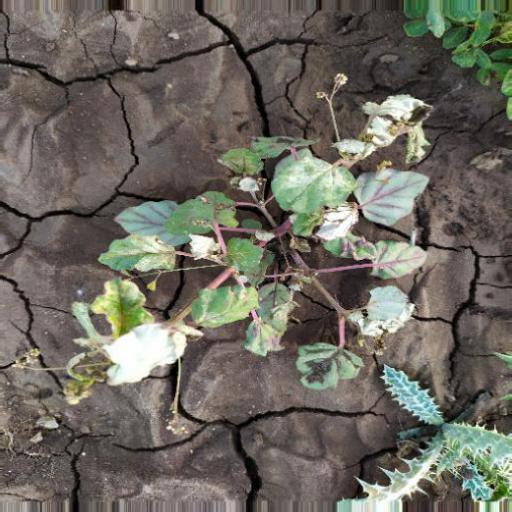weed: (52, 75, 441, 399)
